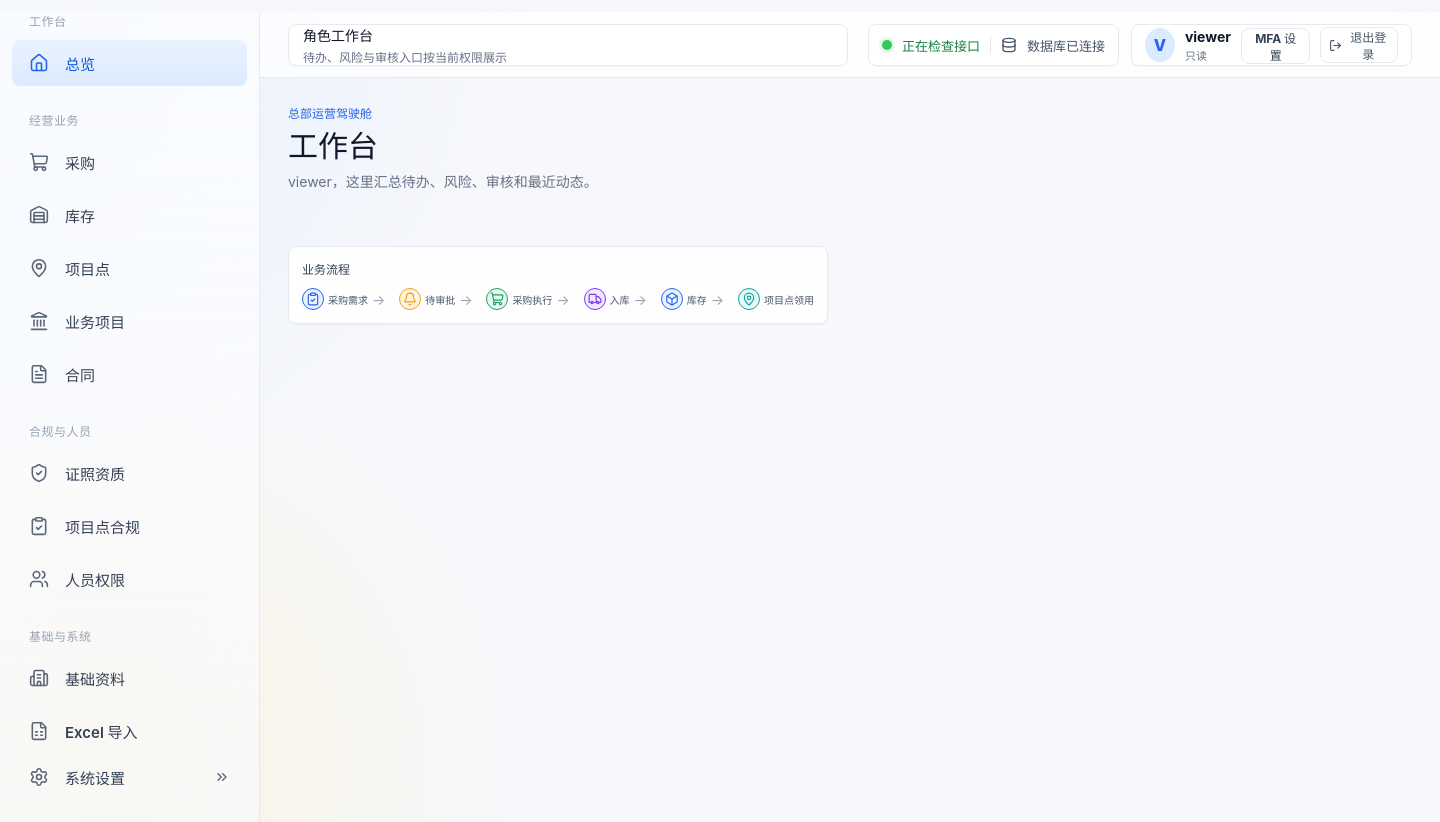
Company ERP app shell › hides audit logs from non-admin system settings users
The image size is (1440, 822).
(page scrolled)
Click the button "系统设置" at (130, 777), box [12,754,247,800]
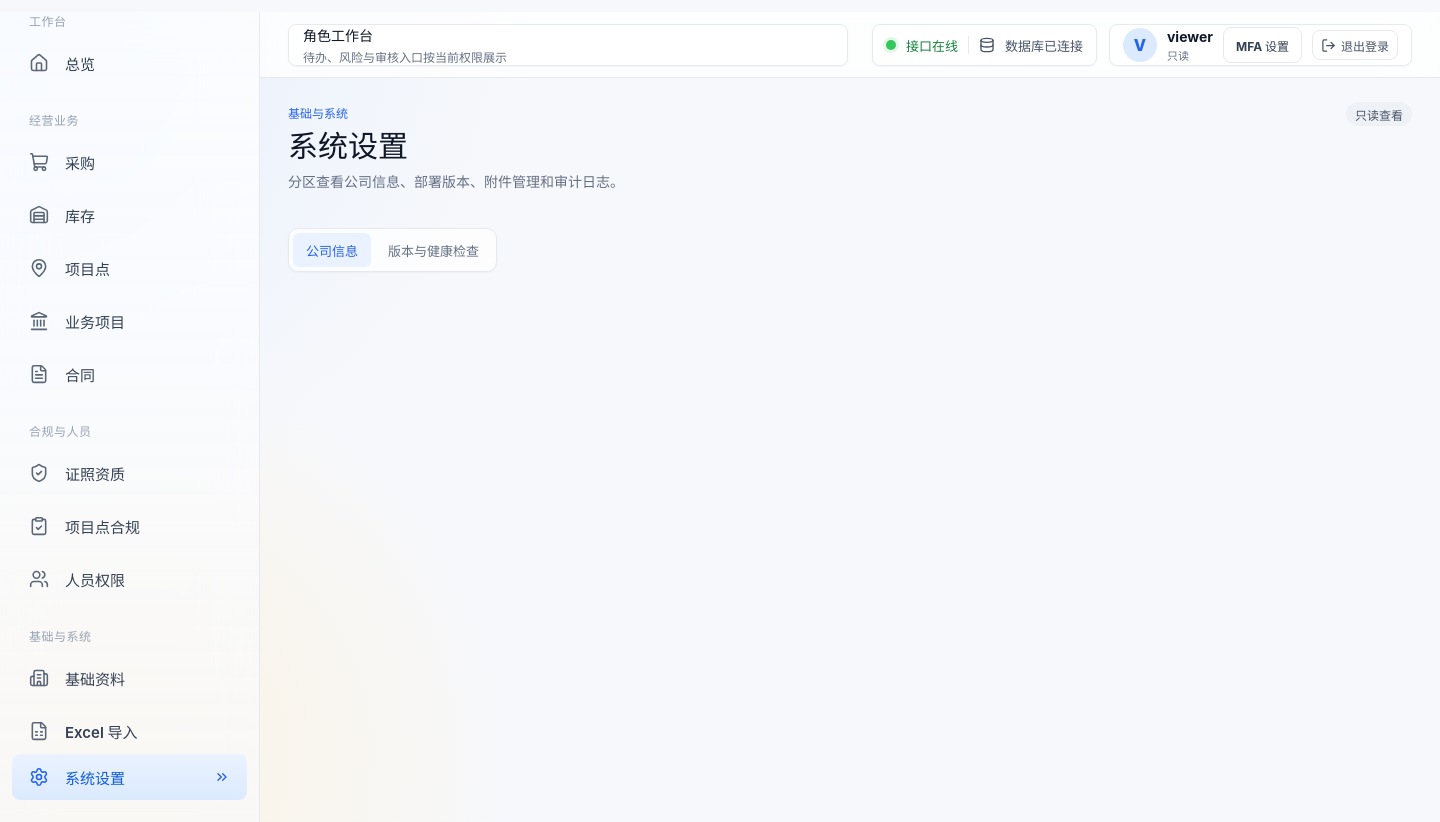
Check: the heading "系统设置" is shown, box [288,128,408,164]
